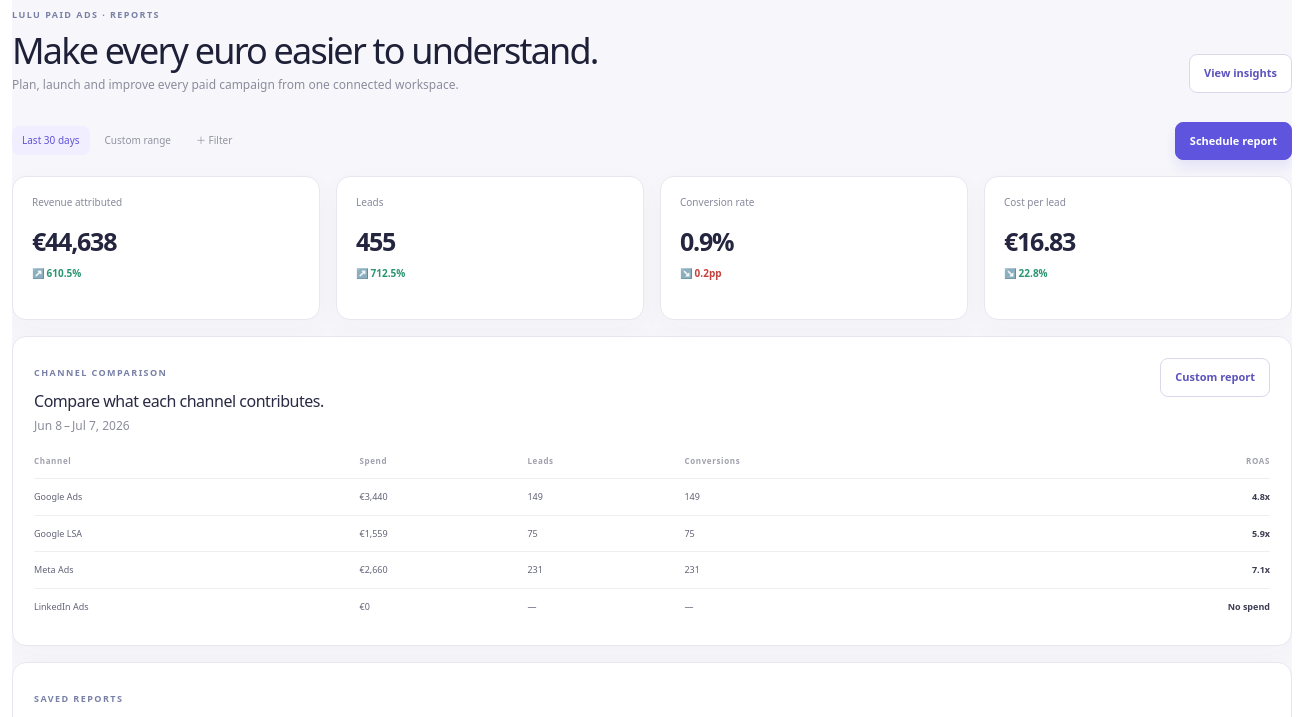
Reports › shows KPIs and the channel comparison, and filters by channel
Check: the element with test id "report-leads" does not show ""
Check: the number of rows is 5, box [34,455,1270,479]; [34,479,1270,515]; [34,515,1270,552]; [34,552,1270,588]; [34,588,1270,624]
Click the button "＋ Filter" at point(214, 141), box [186,126,242,155]
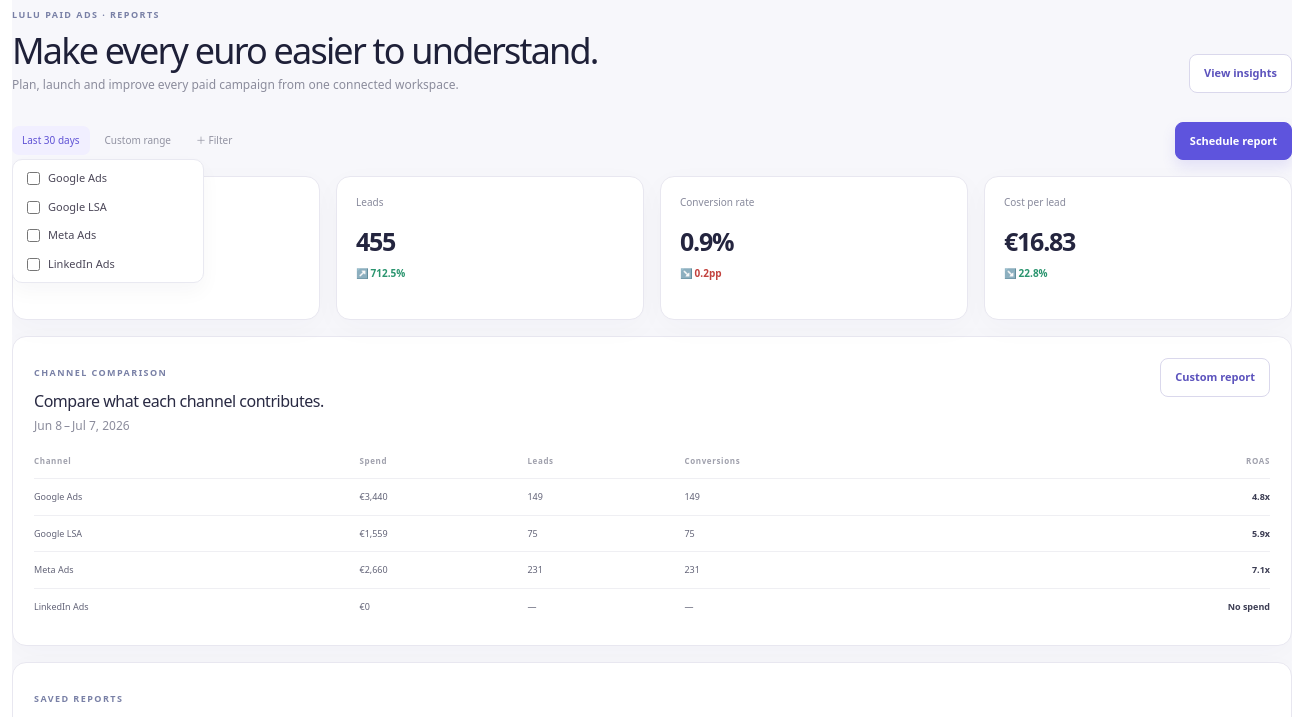
Click the checkbox labelled "Meta Ads" at point(34, 236), box [27,229,40,242]
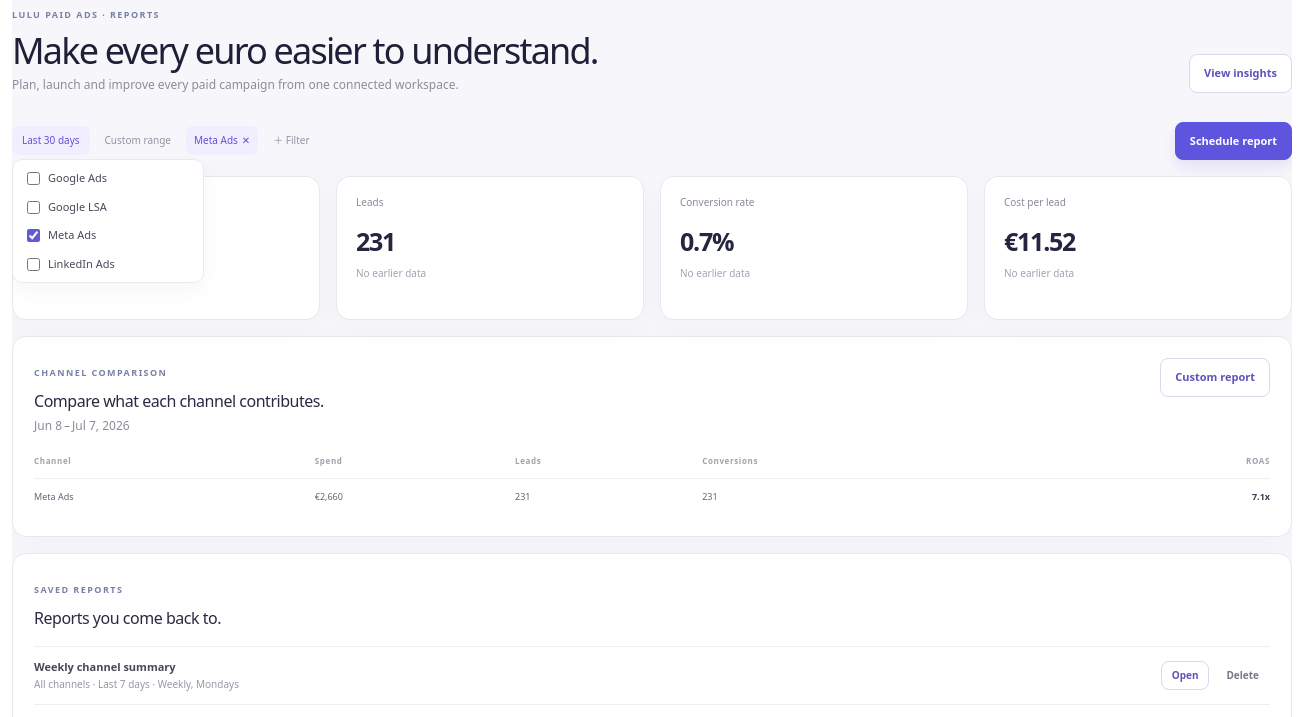
Check: the number of rows is 2, box [34,455,1270,479]; [34,479,1270,515]
Check: the text with test id "report-leads" reads "231", box [356,224,395,258]
